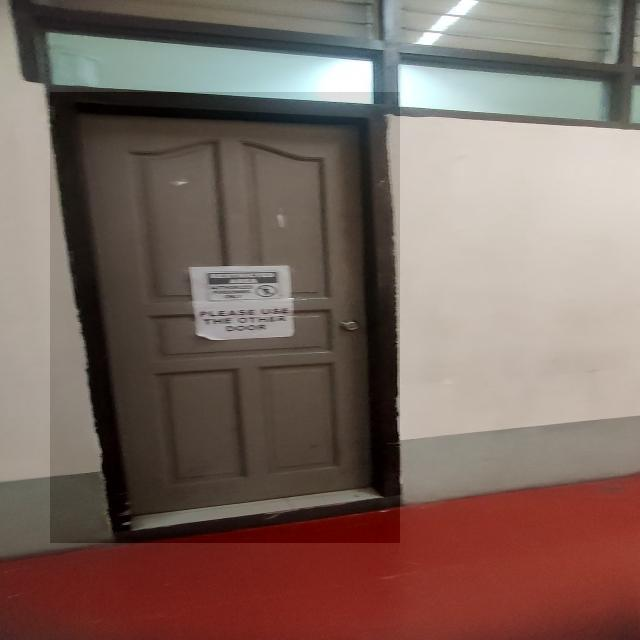door: (51, 50, 432, 544)
